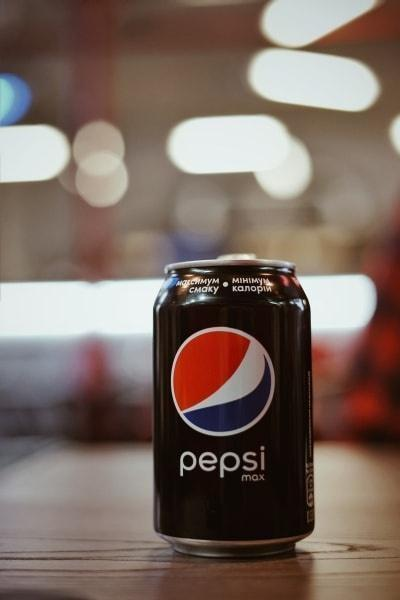tin can: (150, 253, 316, 560)
